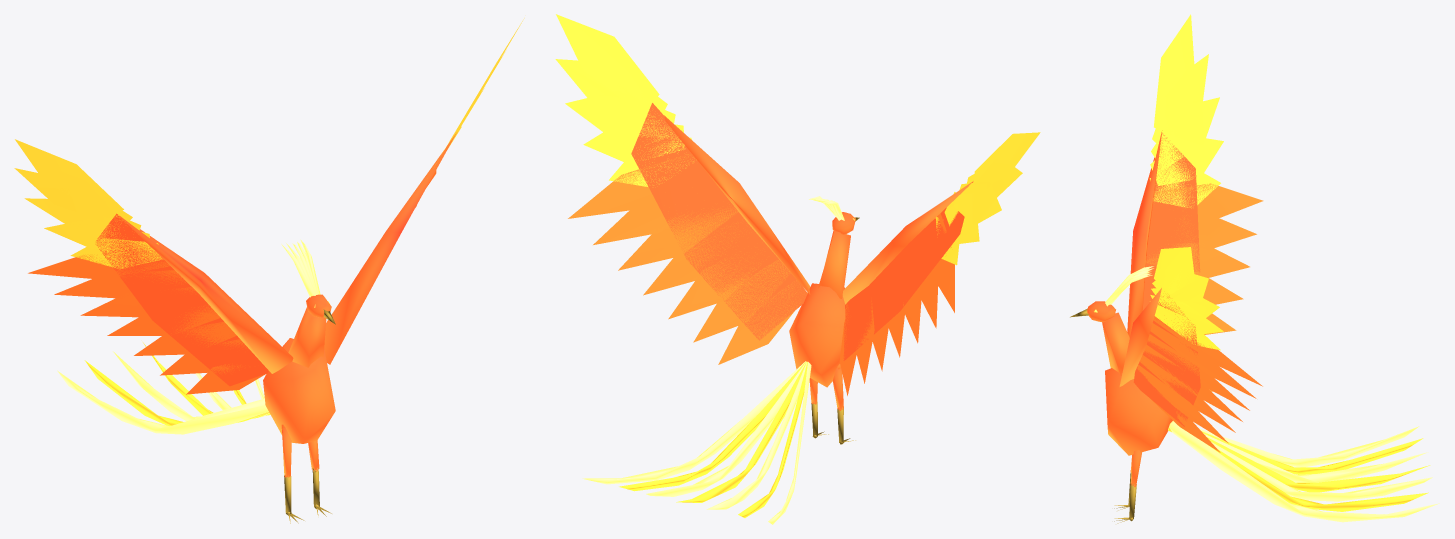
File: phoenix_lod.glb
3 views of the same model, side by side, from view 1: azimuth 30°, elevation 25°; view 2: azimuth 150°, elevation 25°; view 3: azimuth 270°, elevation 25° (orthographic). The views are drawn at different scales.
Parts seen in each view (by area): view 1: body, tail, head, leg_R; view 2: body, tail, head, leg_R; view 3: body, tail, head, leg_L.
Boxes of the visible parts, <box> form: body: <box>14,18,524,443</box>; tail: <box>57,342,270,434</box>; head: <box>281,239,335,324</box>; leg_R: <box>281,424,304,523</box>; body: <box>555,14,1040,395</box>; tail: <box>582,361,811,524</box>; head: <box>809,196,859,234</box>; leg_R: <box>833,364,855,444</box>; body: <box>1102,14,1263,455</box>; tail: <box>1168,421,1439,522</box>; head: <box>1070,266,1153,322</box>; leg_L: <box>1114,450,1141,523</box>.
Size of the model in its own units: 5.15 by 3.97 by 3.47.
